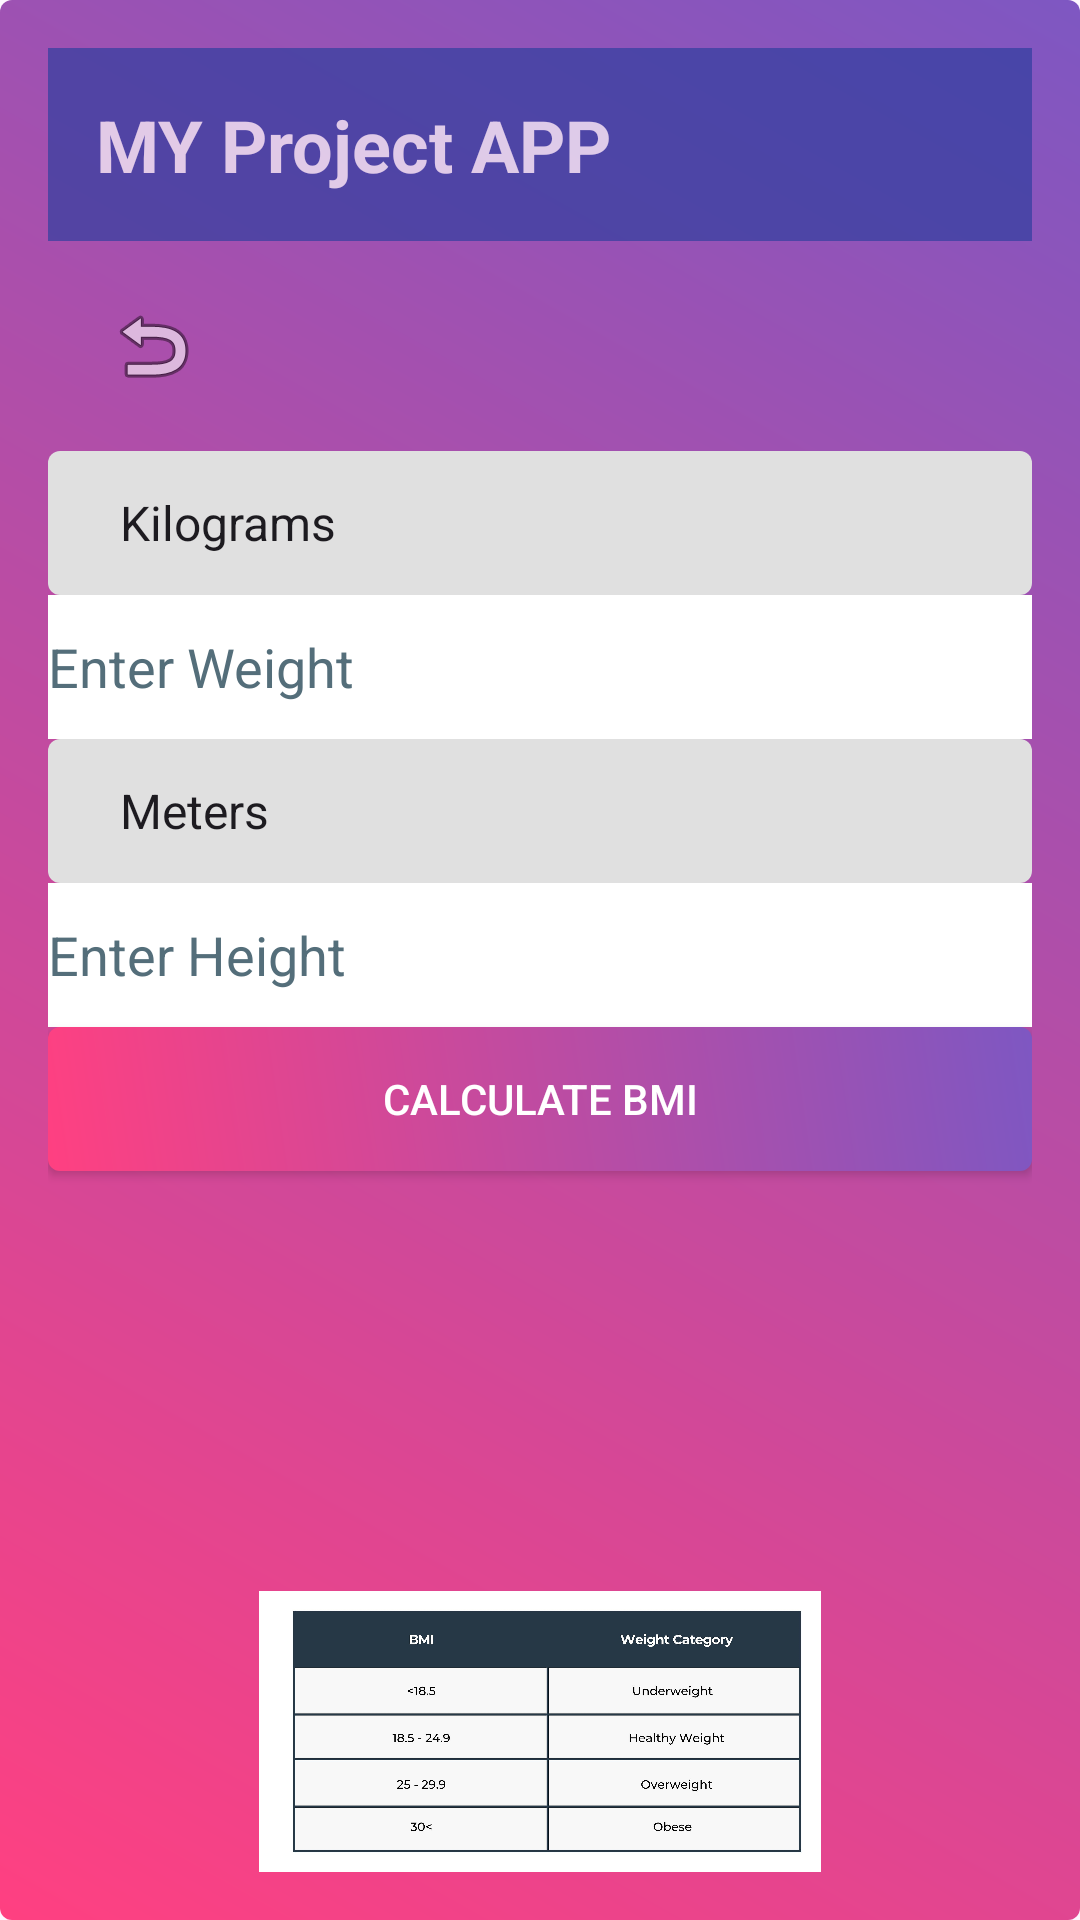

Point at icon controls on the screen. Image size 1080px×1920px, points as [x,y].
revert: [154,346]
